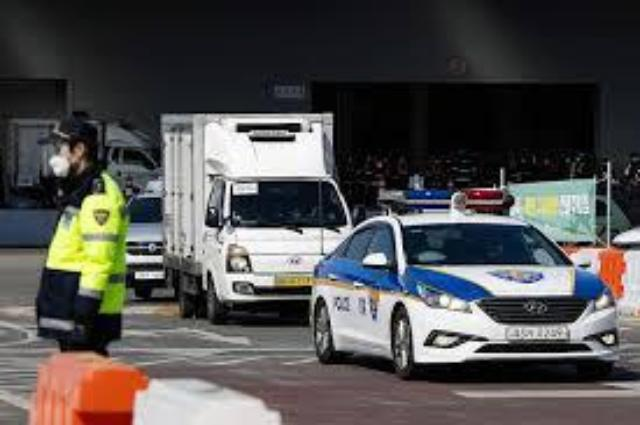police_car: (307, 193, 621, 375)
